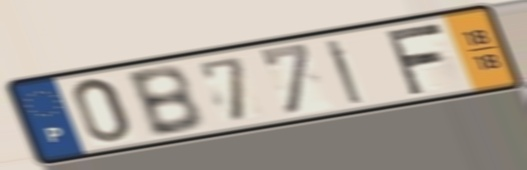0: (70, 75, 137, 146)
7: (256, 41, 315, 118), (196, 54, 250, 124)
B: (122, 62, 207, 140)
F: (381, 20, 447, 98)
I: (322, 36, 366, 107)
